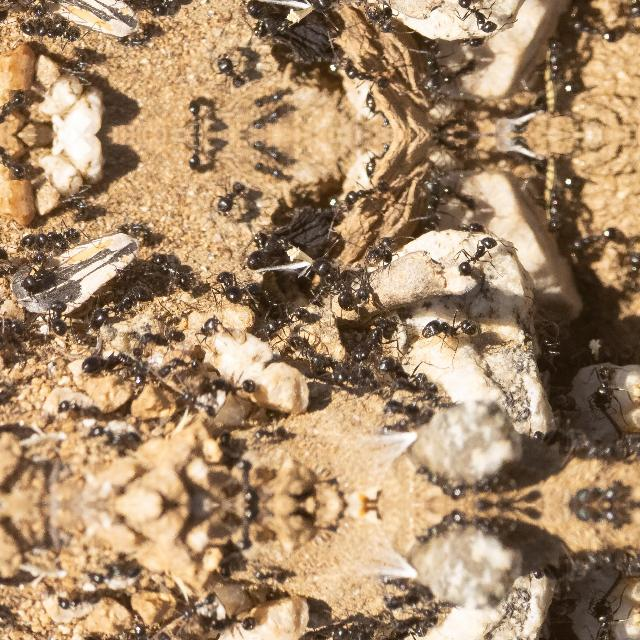Messor: (90, 280, 154, 330), (306, 258, 356, 310), (227, 454, 277, 504), (227, 504, 277, 554), (442, 466, 511, 502), (442, 506, 511, 542), (406, 310, 482, 342), (280, 324, 326, 376), (150, 248, 202, 294), (350, 310, 400, 354), (208, 172, 250, 224), (208, 44, 250, 96), (412, 170, 443, 234), (412, 34, 443, 98), (568, 218, 620, 256), (568, 12, 620, 50), (458, 230, 497, 280), (403, 462, 459, 496), (403, 512, 459, 546), (585, 361, 621, 411), (376, 350, 426, 386), (530, 182, 566, 230), (530, 38, 566, 86), (16, 250, 56, 292), (136, 324, 196, 352), (332, 361, 381, 395), (89, 554, 141, 586), (106, 207, 154, 241), (524, 310, 558, 358), (106, 27, 154, 61), (341, 176, 395, 206), (341, 62, 395, 92), (89, 422, 141, 453), (74, 348, 130, 376), (585, 597, 621, 640), (457, 0, 496, 38), (258, 306, 312, 332), (182, 134, 218, 172), (182, 96, 218, 134), (30, 222, 86, 246), (30, 22, 86, 46), (331, 613, 380, 640), (205, 374, 259, 398), (205, 610, 259, 634), (358, 140, 396, 174), (358, 94, 396, 128), (244, 228, 270, 274), (49, 398, 103, 420), (49, 588, 103, 610), (212, 266, 242, 304), (441, 178, 479, 206), (441, 62, 479, 90), (150, 0, 201, 20), (355, 261, 379, 303), (180, 386, 216, 414), (180, 594, 216, 622), (244, 0, 269, 40), (359, 1, 397, 26), (40, 298, 70, 329), (246, 418, 288, 440), (246, 568, 288, 590), (375, 622, 426, 640), (359, 242, 397, 266), (304, 274, 334, 304), (364, 230, 396, 256), (364, 12, 396, 38), (384, 394, 420, 416), (384, 592, 420, 614), (623, 242, 639, 290), (168, 349, 202, 371), (252, 155, 286, 177), (252, 91, 286, 113), (253, 136, 283, 160), (253, 108, 283, 132), (16, 0, 56, 17), (416, 378, 442, 404), (416, 604, 442, 630), (382, 414, 411, 436), (382, 572, 411, 594), (521, 424, 547, 444), (521, 564, 547, 584), (458, 32, 482, 52), (458, 217, 482, 236), (74, 632, 130, 640), (623, 0, 639, 25)
